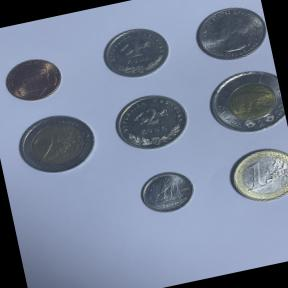coin: (7, 104, 106, 184), (198, 62, 288, 144), (105, 83, 196, 159), (185, 0, 272, 71), (219, 139, 288, 210), (0, 50, 70, 109), (132, 163, 202, 221)
